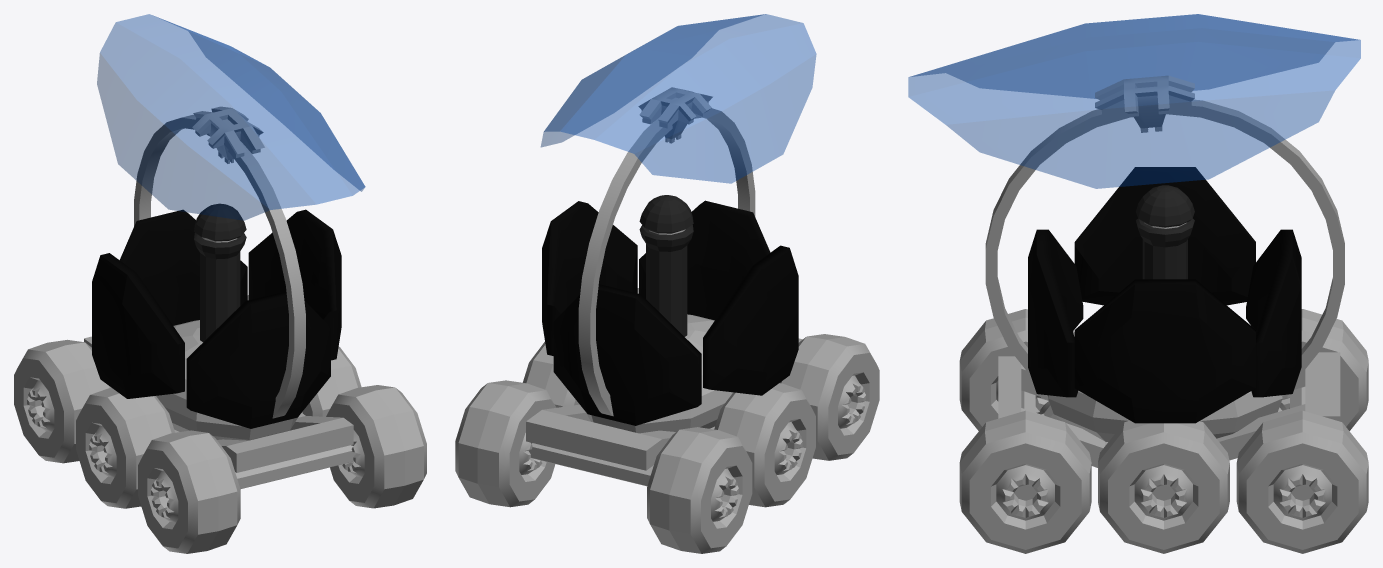
File: Shieldbot.fbx
The picture shows the model from 3 angles, left to right: view 1: azimuth 30°, elevation 25°; view 2: azimuth 150°, elevation 25°; view 3: azimuth 270°, elevation 25°; orthographic projection. The views are drawn at different scales.
Parts seen in each view (by area): view 1: Shield, pCube6, pCylinder7, pCube4, pCylinder3, pCylinder6, pCylinder8, pPipe1, pCube5, pCube3, pSphere1, pSphere2 (+5 smaller); view 2: Shield, pCube5, pCylinder6, pCube4, pCylinder5, pCylinder7, pCylinder8, pPipe1, pCube6, pCube3, pSphere1, pSphere2 (+5 smaller); view 3: Shield, pCube3, pCylinder5, pCylinder3, pCylinder4, pCube4, pPipe1, pCube6, pCube5, pCylinder7, pSphere1, pSphere2 (+4 smaller).
Part boxes in pixels (left/top/right/bottom): Shield: left=97, top=14, right=365, bottom=220; pCube6: left=186, top=291, right=330, bottom=428; pCylinder7: left=138, top=430, right=240, bottom=553; pCube4: left=92, top=253, right=184, bottom=398; pCylinder3: left=326, top=385, right=426, bottom=508; pCylinder6: left=14, top=339, right=111, bottom=463; pCylinder8: left=76, top=387, right=174, bottom=508; pPipe1: left=134, top=115, right=305, bottom=418; pCube5: left=120, top=210, right=247, bottom=325; pCube3: left=248, top=209, right=341, bottom=360; pSphere1: left=194, top=203, right=246, bottom=342; pSphere2: left=156, top=320, right=298, bottom=440; Shield: left=541, top=14, right=816, bottom=183; pCube5: left=553, top=284, right=701, bottom=425; pCylinder6: left=647, top=427, right=752, bottom=553; pCube4: left=703, top=245, right=798, bottom=395; pCylinder5: left=455, top=380, right=556, bottom=507; pCylinder7: left=780, top=334, right=879, bottom=460; pCylinder8: left=714, top=383, right=815, bottom=507; pPipe1: left=578, top=108, right=755, bottom=416; pCube6: left=639, top=200, right=770, bottom=320; pCube3: left=542, top=201, right=637, bottom=355; pSphere1: left=639, top=195, right=693, bottom=336; pSphere2: left=587, top=314, right=732, bottom=433; Shield: left=908, top=14, right=1360, bottom=188; pCube3: left=1074, top=279, right=1255, bottom=423; pCylinder5: left=1236, top=410, right=1368, bottom=553; pCylinder3: left=959, top=410, right=1091, bottom=553; pCylinder4: left=1098, top=420, right=1229, bottom=553; pCube4: left=1074, top=167, right=1255, bottom=305; pPipe1: left=985, top=99, right=1344, bottom=377; pCube6: left=1028, top=229, right=1083, bottom=397; pCube5: left=1246, top=229, right=1301, bottom=397; pCylinder7: left=959, top=309, right=1074, bottom=430; pSphere1: left=1136, top=185, right=1194, bottom=279; pSphere2: left=1048, top=390, right=1282, bottom=441.
Size of the model in its own units: 5.25 by 8.55 by 7.65.
